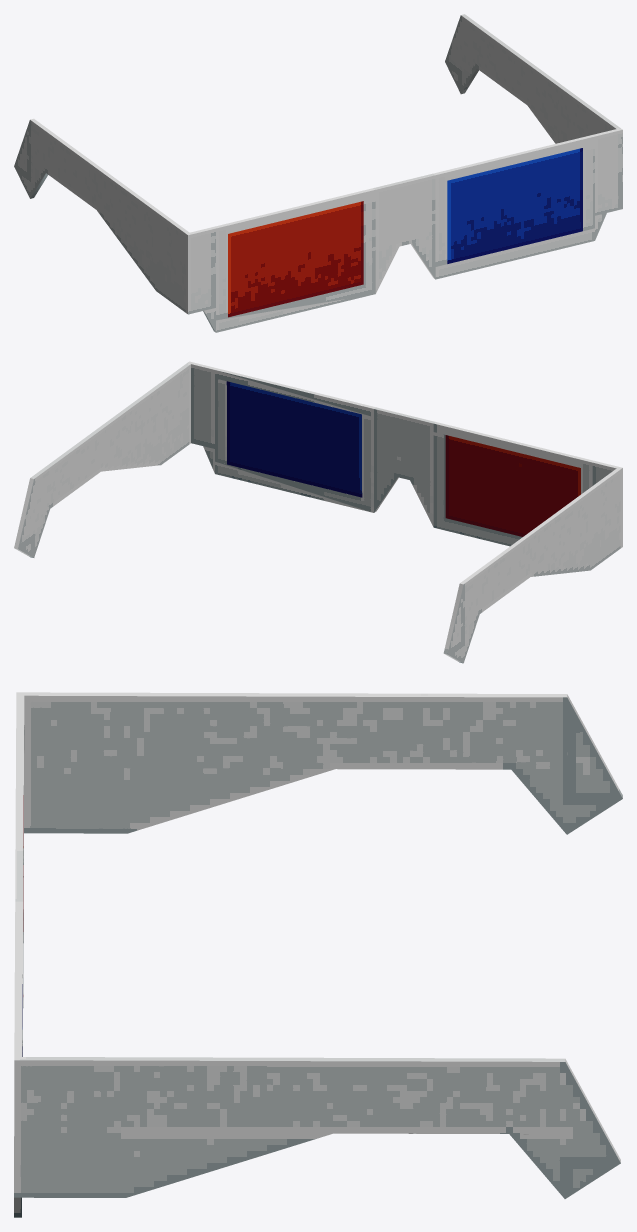
File: wear_3d.glb
3 views of the same model, one above another, from view 1: azimuth 30°, elevation 25°; view 2: azimuth 150°, elevation 25°; view 3: azimuth 270°, elevation 25° (orthographic). The views are drawn at different scales.
Visible parts, largest first — view 1: mesh; view 2: mesh; view 3: mesh.
Part boxes in pixels (bbox=[...]): mesh: bbox=[14, 14, 622, 332]; mesh: bbox=[14, 361, 622, 663]; mesh: bbox=[14, 692, 622, 1217].
Size of the model in its own units: 0.2183 by 0.05 by 0.1525.
Materials: 1 (1 with a texture image).
